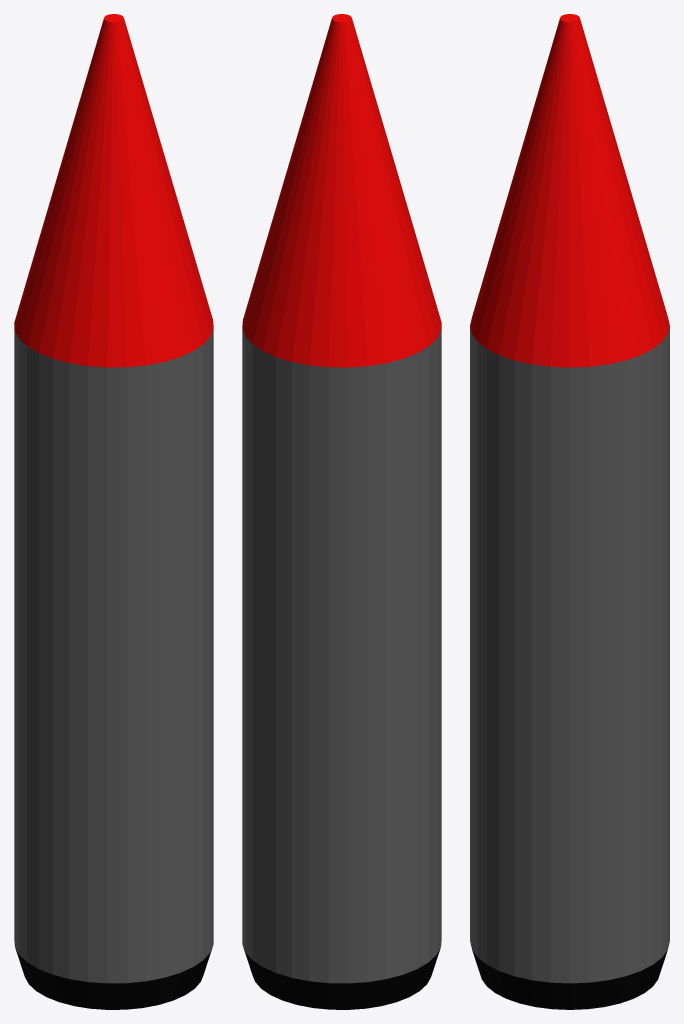
Rendered from rm_rocket_pickup.fbx.
3 renders of one model, left to right at view 1: azimuth 30°, elevation 25°; view 2: azimuth 150°, elevation 25°; view 3: azimuth 270°, elevation 25°, orthographic.
Parts seen in each view (by area): view 1: RM_Rocket_Pickup; view 2: RM_Rocket_Pickup; view 3: RM_Rocket_Pickup.
Part boxes in pixels (x1=…): RM_Rocket_Pickup: x1=14, y1=14, x2=213, y2=1009; RM_Rocket_Pickup: x1=242, y1=14, x2=441, y2=1009; RM_Rocket_Pickup: x1=470, y1=14, x2=669, y2=1009.
Bounding box in the file's own units: 58.95 × 310 × 58.95.
